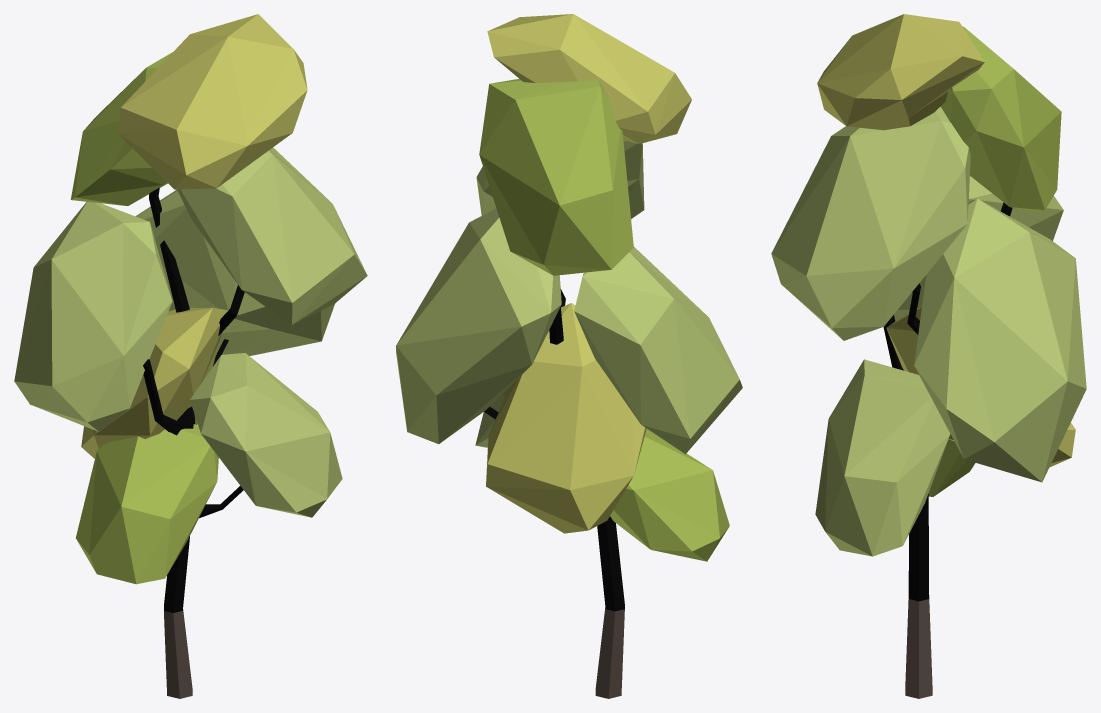
Rendered from tree_0503.dae.
The picture shows the model from 3 angles, left to right: view 1: azimuth 30°, elevation 25°; view 2: azimuth 150°, elevation 25°; view 3: azimuth 270°, elevation 25°; orthographic projection. The views are drawn at different scales.
Visible parts, largest first — view 1: tree_0503; view 2: tree_0503; view 3: tree_0503.
Boxes of the visible parts, x1,y1,x2,y2 form: tree_0503: [14, 14, 367, 698]; tree_0503: [396, 14, 742, 698]; tree_0503: [771, 14, 1086, 698].
Bounding box in the file's own units: 2.07 × 1.74 × 4.26.
